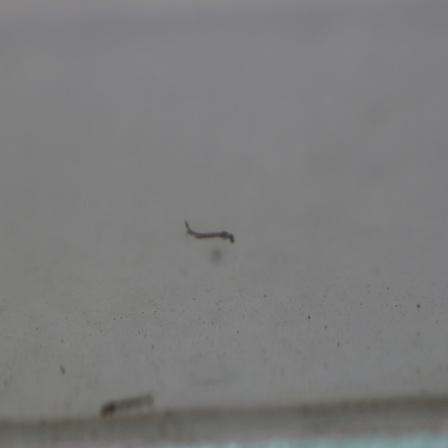Jentik-Nyamuk: (182, 217, 237, 249)
